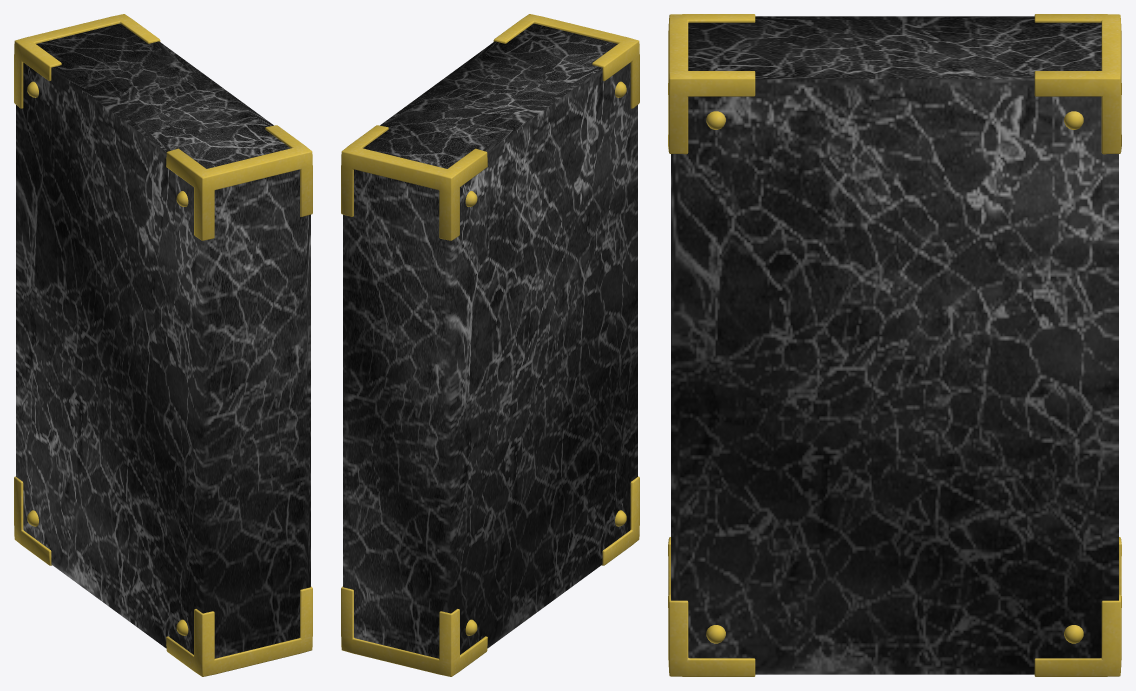
Rendered from NFT.glb.
3 views of the same model, side by side, from view 1: azimuth 30°, elevation 25°; view 2: azimuth 150°, elevation 25°; view 3: azimuth 270°, elevation 25° (orthographic). The views are drawn at different scales.
Parts seen in each view (by area): view 1: Transparent card, Main card border 1.002, Main card border 1; view 2: Transparent card, Main card border 1.002, Main card border 1; view 3: Transparent card, Main card border 1.002, Main card border 1.
Part boxes in pixels (box(x1,y1,x2,y2)): Transparent card: box(16, 23, 310, 658); Main card border 1.002: box(14, 14, 312, 676); Main card border 1: box(27, 81, 188, 635); Transparent card: box(343, 23, 637, 658); Main card border 1.002: box(341, 14, 639, 676); Main card border 1: box(465, 81, 626, 635); Transparent card: box(671, 16, 1118, 674); Main card border 1.002: box(668, 14, 1121, 676); Main card border 1: box(706, 111, 1083, 643).
Bounding box in the file's own units: 0.0141 × 0.0558 × 0.0382.
Materials: 2 (2 with a texture image).
